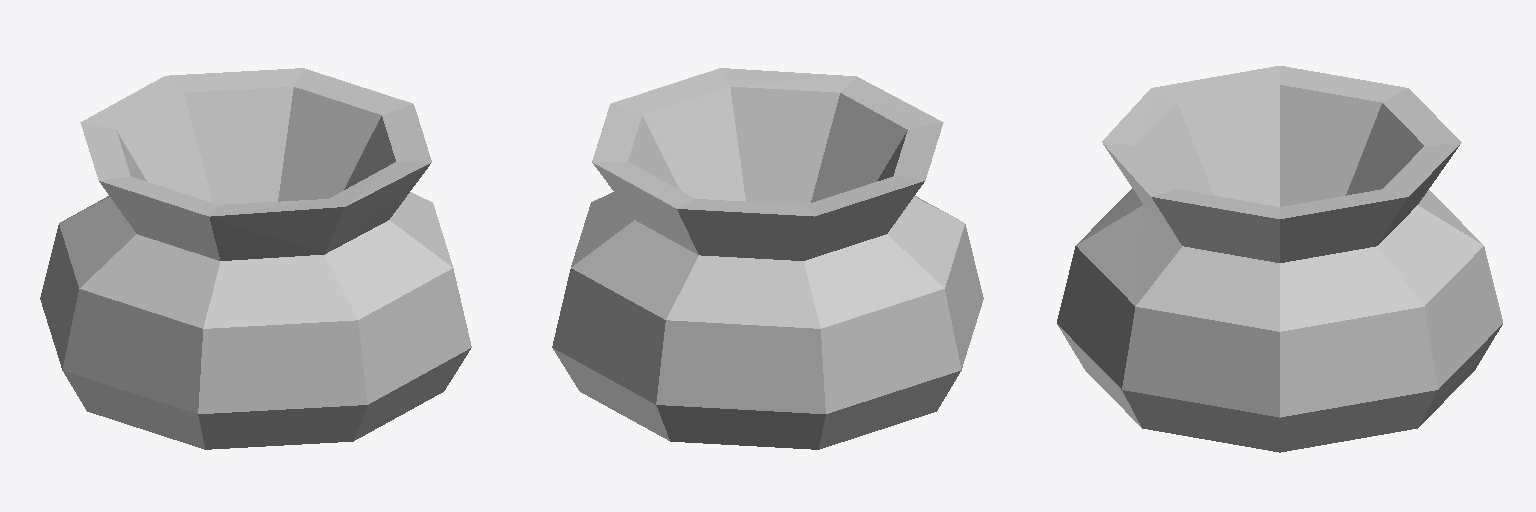
File: uldamanpot03.obj
3 views of the same model, side by side, from view 1: azimuth 30°, elevation 25°; view 2: azimuth 150°, elevation 25°; view 3: azimuth 270°, elevation 25° (orthographic).
Parts seen in each view (by area): view 1: object 1; view 2: object 1; view 3: object 1.
Boxes of the visible parts, x1=… form: object 1: x1=40, y1=68, x2=471, y2=449; object 1: x1=552, y1=68, x2=983, y2=449; object 1: x1=1057, y1=66, x2=1502, y2=452.
Size of the model in its own units: 2.55 by 1.44 by 2.55.